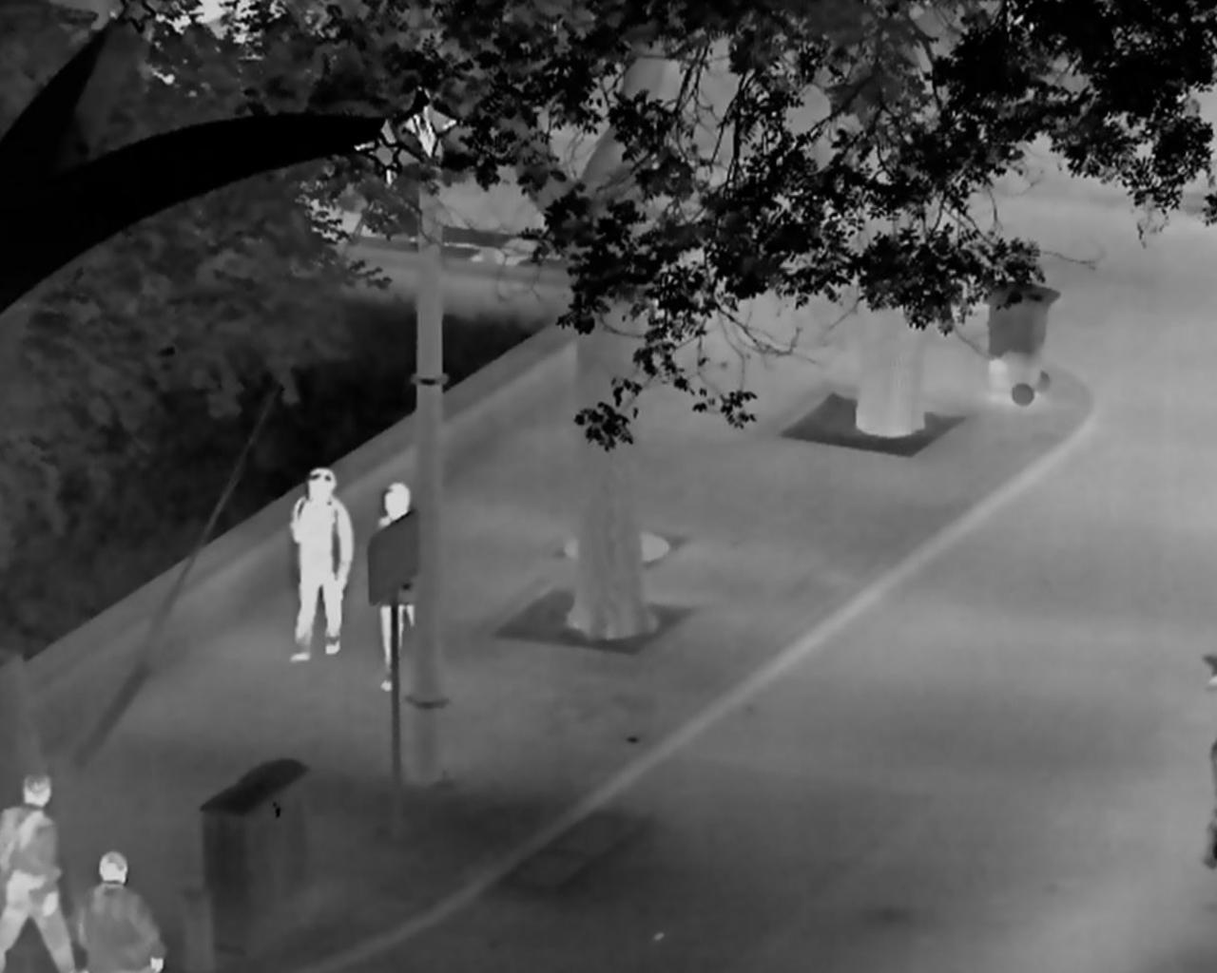person: (288, 466, 354, 664), (78, 848, 167, 973), (368, 480, 416, 694)
